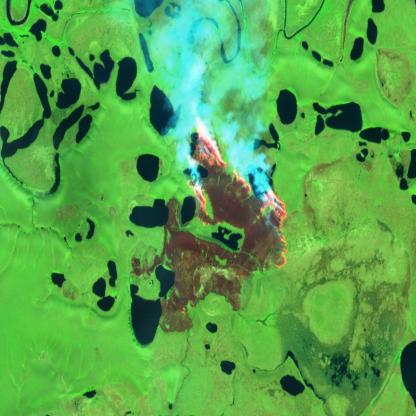fire: (184, 110, 293, 272)
